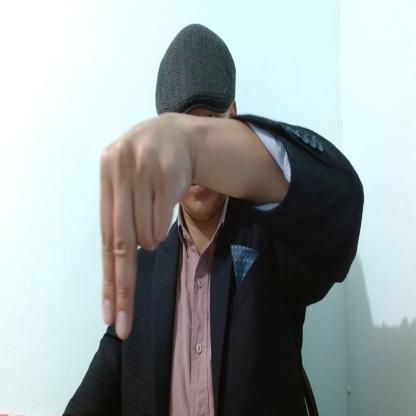N: (98, 109, 195, 341)
